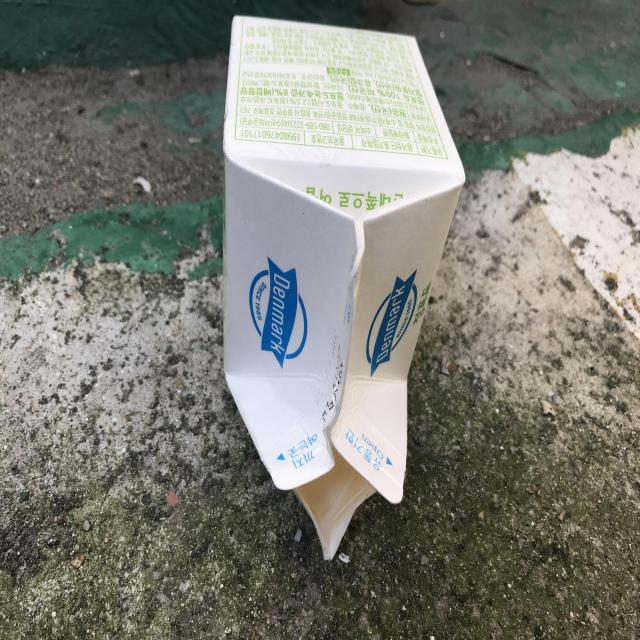paperpack: (224, 15, 465, 559)
